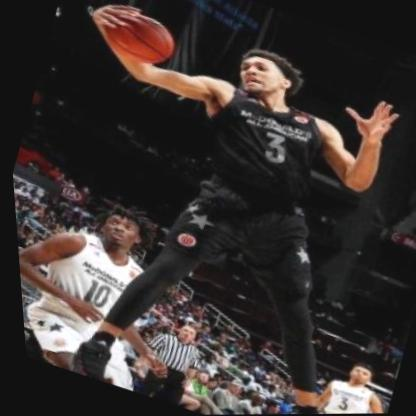basketball: (86, 0, 189, 80)
